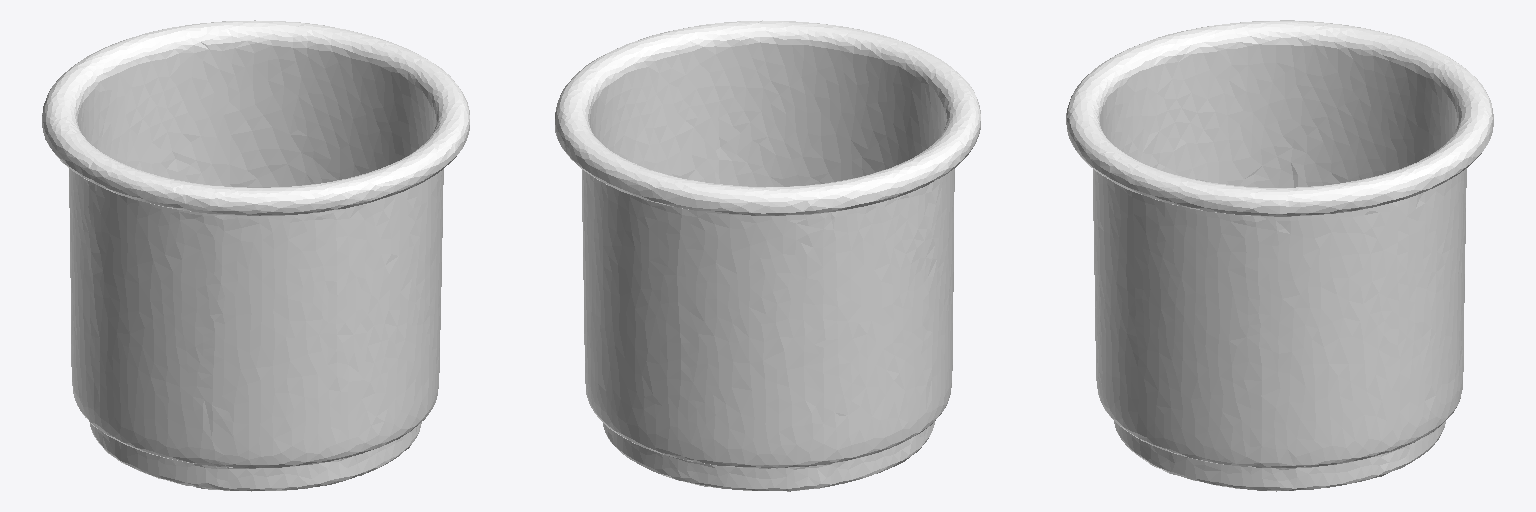
URDF robot description (012_strawberry):
<robot name="012_strawberry">
	<link name="_name">
		<visual>
			<origin xyz="0.014938727773305587 -0.15432679933728788 -0.2111450326881559" rpy="0 0 0" />
			<geometry>
				<mesh filename="012_strawberry/google_16k/textured.obj" scale="10 10 10" />
			</geometry>
			<material name="texture">
				<color rgba="1.0 1.0 1.0 1.0" />
			</material>
		</visual>
		<collision>
			<geometry>
				<mesh filename="012_strawberry/google_16k/textured_vhacd.obj" scale="10 10 10" />
			</geometry>
		<origin xyz="0.014938727773305587 -0.15432679933728788 -0.2111450326881559" rpy="0 0 0" /></collision>
		<inertial>
			<mass value="1.0" />
			<inertia ixx="1.0" ixy="0.0" ixz="0.0" iyy="1.0" iyz="0.0" izz="1.0" />
		</inertial>
	</link>
</robot>

--- Render facts (derived) ---
3 views of the same robot in one strip: view 1: azimuth 30°, elevation 25°; view 2: azimuth 150°, elevation 25°; view 3: azimuth 270°, elevation 25° (orthographic).
Robot: 012_strawberry — 1 links, 0 joints (none); root link _name; default pose: every joint at zero.
Links seen in each view (by area): view 1: _name; view 2: _name; view 3: _name.
Boxes of the visible links, x1=… form: _name: x1=42, y1=20, x2=469, y2=491; _name: x1=555, y1=20, x2=980, y2=491; _name: x1=1066, y1=20, x2=1493, y2=491.
Bounding box of the posed robot: 0.915 × 0.9162 × 0.7506 m (x, y, z).
1 mesh visuals loaded from 1 distinct referenced files (1 OBJ).